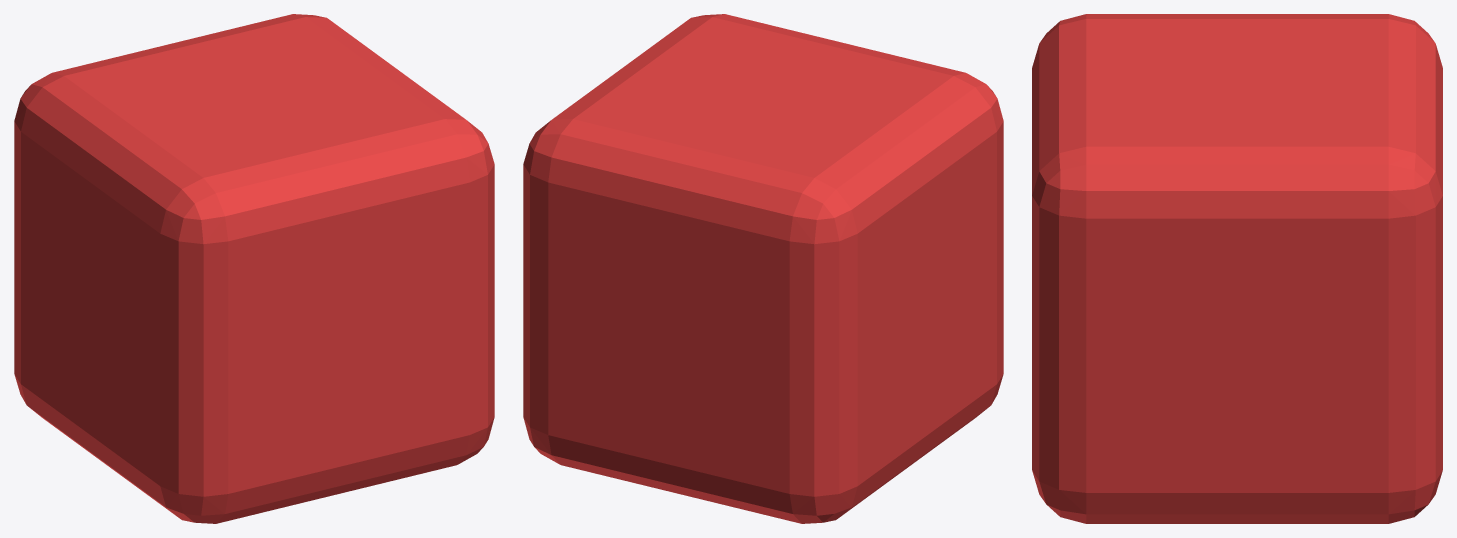
The picture shows the model from 3 angles, left to right: view 1: azimuth 30°, elevation 25°; view 2: azimuth 150°, elevation 25°; view 3: azimuth 270°, elevation 25°; orthographic projection. The views are drawn at different scales.
Parts seen in each view (by area): view 1: Cube; view 2: Cube; view 3: Cube.
Part boxes in pixels (x1,y1,x2,y2): Cube: [14, 14, 494, 523]; Cube: [523, 14, 1003, 523]; Cube: [1032, 14, 1442, 523].
Size of the model in its own units: 2 by 2 by 2.
